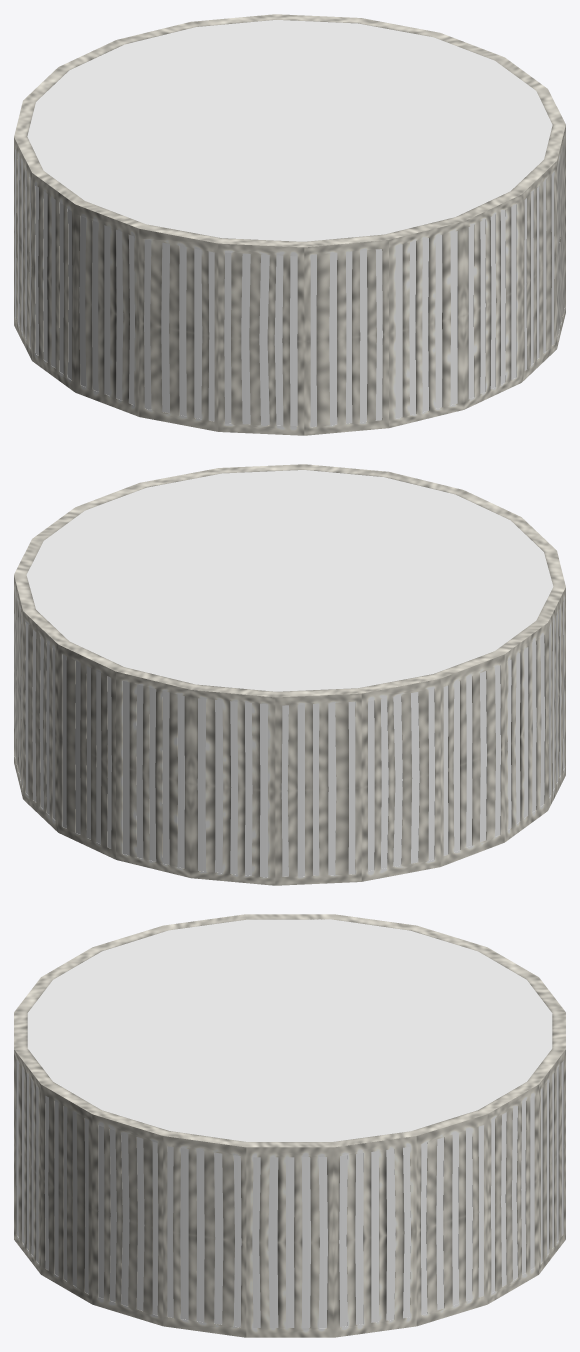
3 views of the same model, one above another, from view 1: azimuth 30°, elevation 25°; view 2: azimuth 150°, elevation 25°; view 3: azimuth 270°, elevation 25° (orthographic).
Visible parts, largest first — view 1: object7aura, object7detail; view 2: object7aura, object7detail; view 3: object7aura, object7detail.
Part boxes in pixels (bbox=[...]): object7aura: bbox=[15, 20, 564, 427]; object7detail: bbox=[14, 14, 565, 435]; object7aura: bbox=[14, 470, 564, 877]; object7detail: bbox=[14, 464, 565, 885]; object7aura: bbox=[16, 919, 563, 1327]; object7detail: bbox=[14, 914, 565, 1337].
Size of the model in its own units: 37.01 by 14.08 by 37.01.
2 materials, 2 textured.
